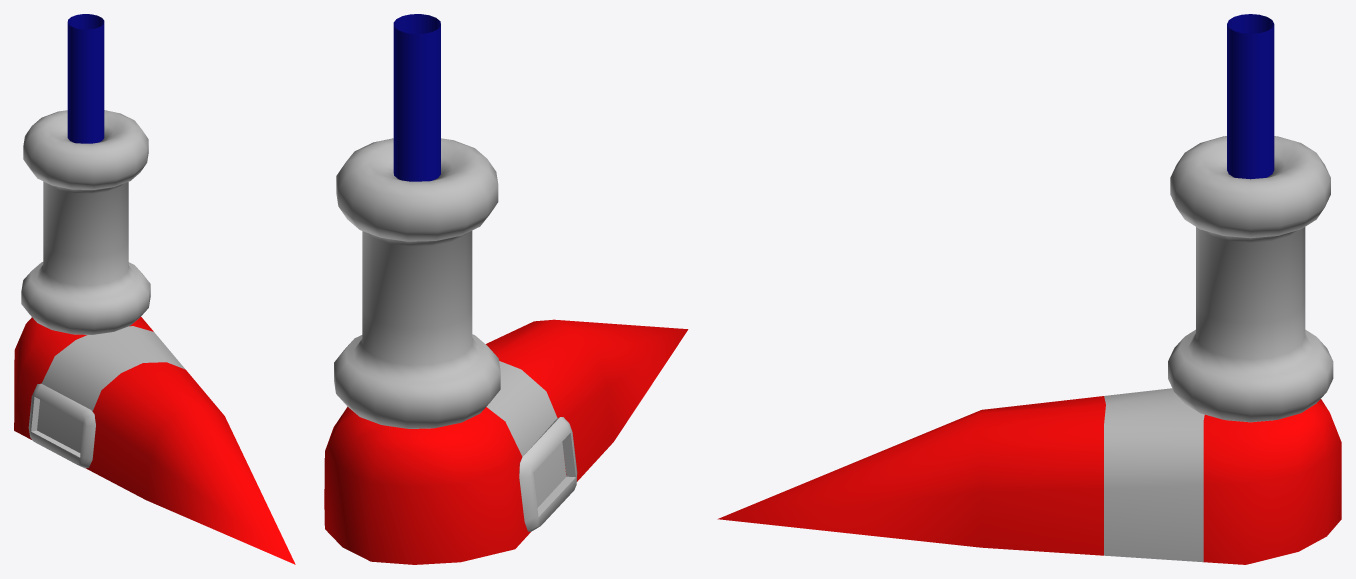
File: SonicRightLeg.obj
3 views of the same model, side by side, from view 1: azimuth 30°, elevation 25°; view 2: azimuth 150°, elevation 25°; view 3: azimuth 270°, elevation 25° (orthographic). The views are drawn at different scales.
Visible parts, largest first — view 1: Polygon_2_2; view 2: Polygon_2_2; view 3: Polygon_2_2.
Boxes of the visible parts, box(x1,y1,x2,y2) form: Polygon_2_2: box(14, 14, 295, 564); Polygon_2_2: box(324, 14, 688, 564); Polygon_2_2: box(717, 14, 1341, 564).
Size of the model in its own units: 0.73 by 1.83 by 2.09.
